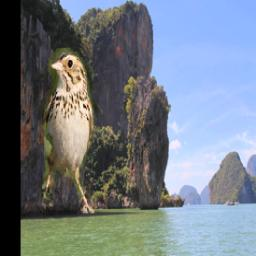Sparrow: (42, 49, 94, 214)
